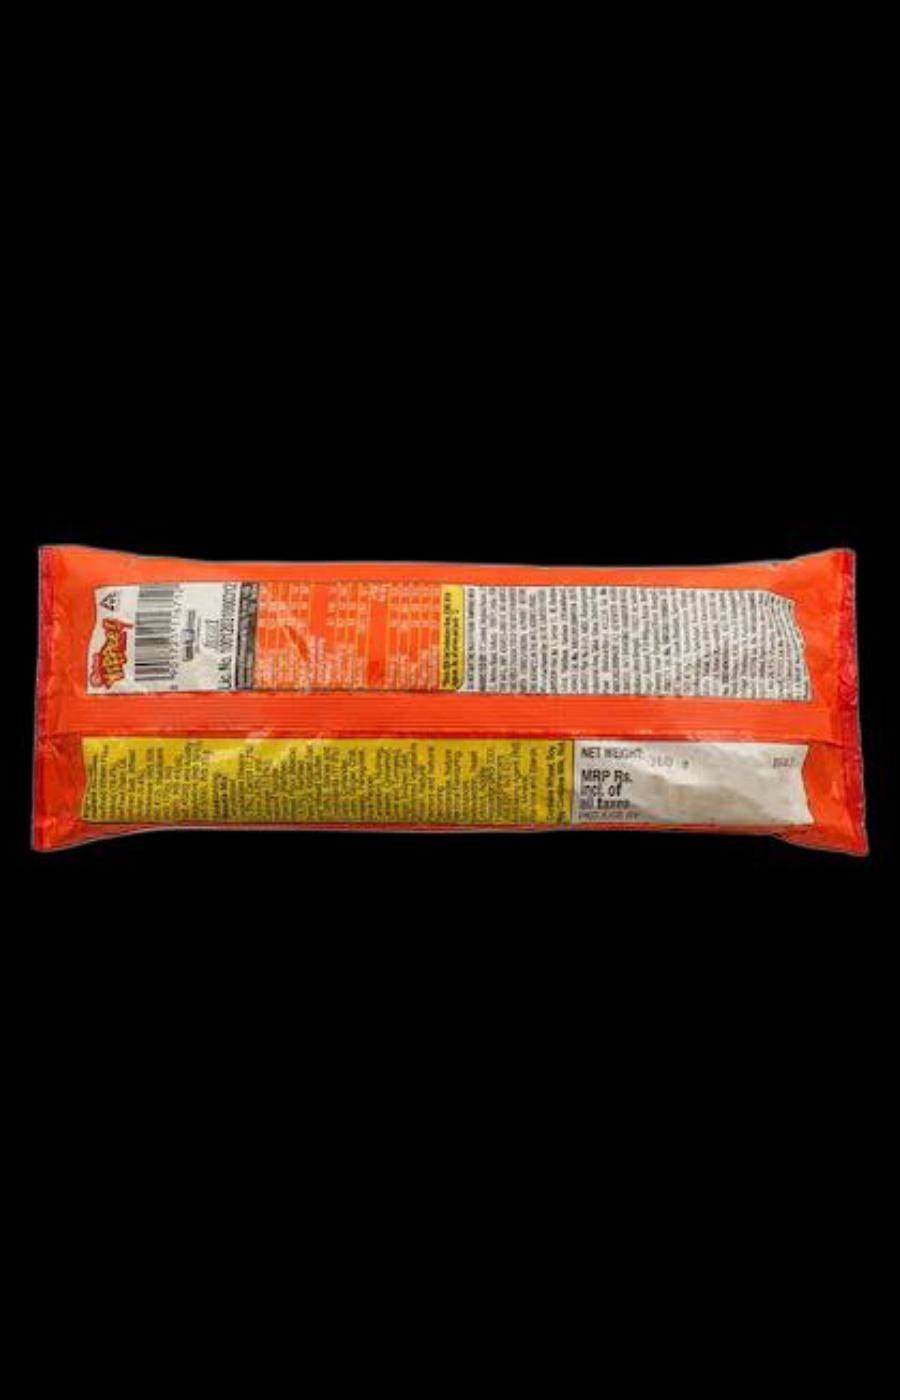Sunfeast Yippee Noodlemagic Masala 360 g: (33, 543, 881, 857)
